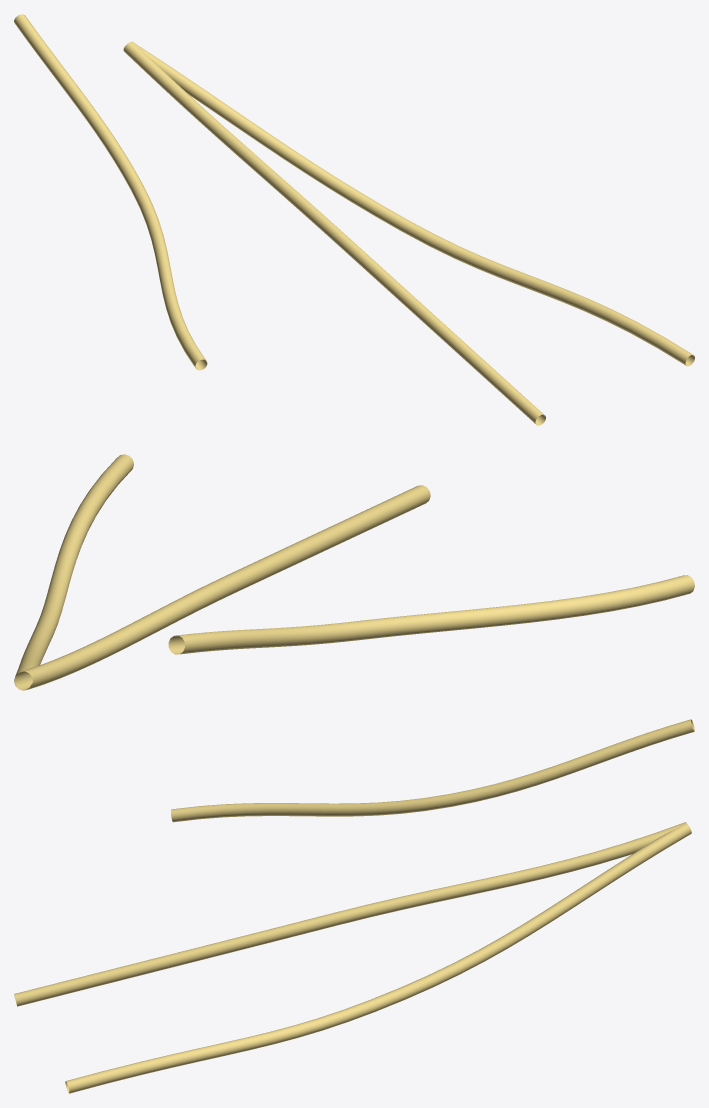
3 renders of one model, top to bottom at view 1: azimuth 30°, elevation 25°; view 2: azimuth 150°, elevation 25°; view 3: azimuth 270°, elevation 25°, orthographic. The views are drawn at different scales.
Visible parts, largest first — view 1: ZA_de9652fcd20e1246; view 2: ZA_de9652fcd20e1246; view 3: ZA_de9652fcd20e1246.
Boxes of the visible parts, x1=… form: ZA_de9652fcd20e1246: x1=14, y1=14, x2=694, y2=425; ZA_de9652fcd20e1246: x1=14, y1=454, x2=694, y2=690; ZA_de9652fcd20e1246: x1=14, y1=719, x2=694, y2=1093.
Size of the model in its own units: 0.0388 by 0.0171 by 0.0519.
